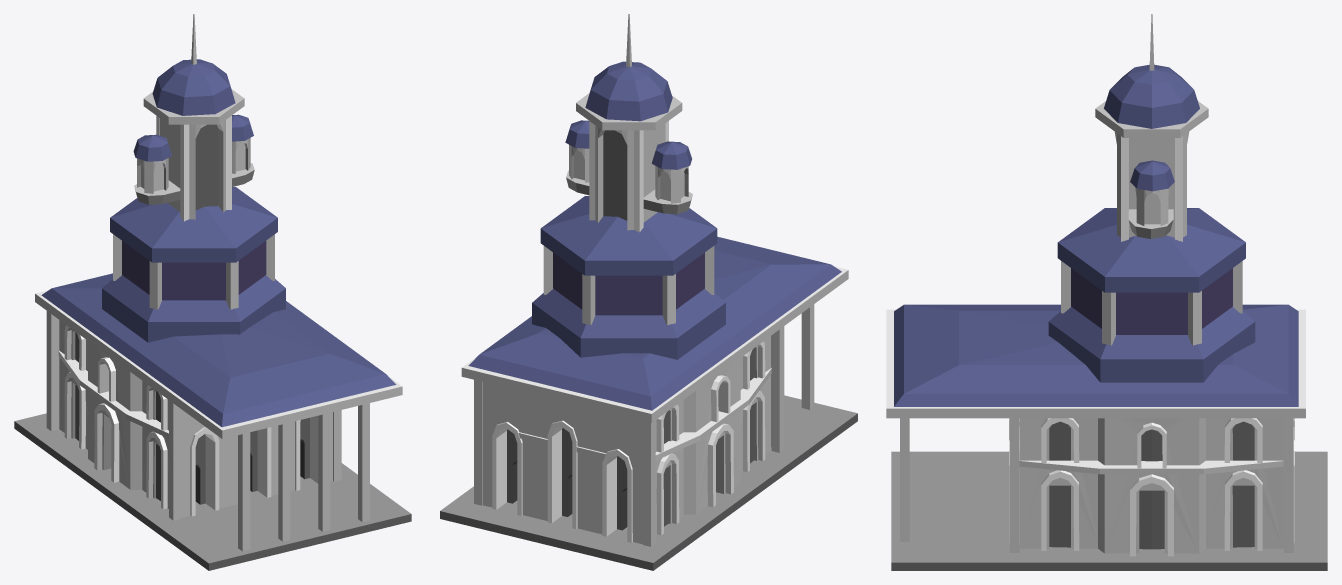
The model's file is temple_001.glb.
The picture shows the model from 3 angles, left to right: view 1: azimuth 30°, elevation 25°; view 2: azimuth 150°, elevation 25°; view 3: azimuth 270°, elevation 25°; orthographic projection. The views are drawn at different scales.
Parts seen in each view (by area): view 1: temple_001; view 2: temple_001; view 3: temple_001.
Part boxes in pixels (<box>): temple_001: <box>14,14,411,570</box>; temple_001: <box>440,14,857,570</box>; temple_001: <box>886,14,1327,570</box>.
Bounding box in the file's own units: 11.91 × 25.1 × 20.02.
1 material, 1 textured.
